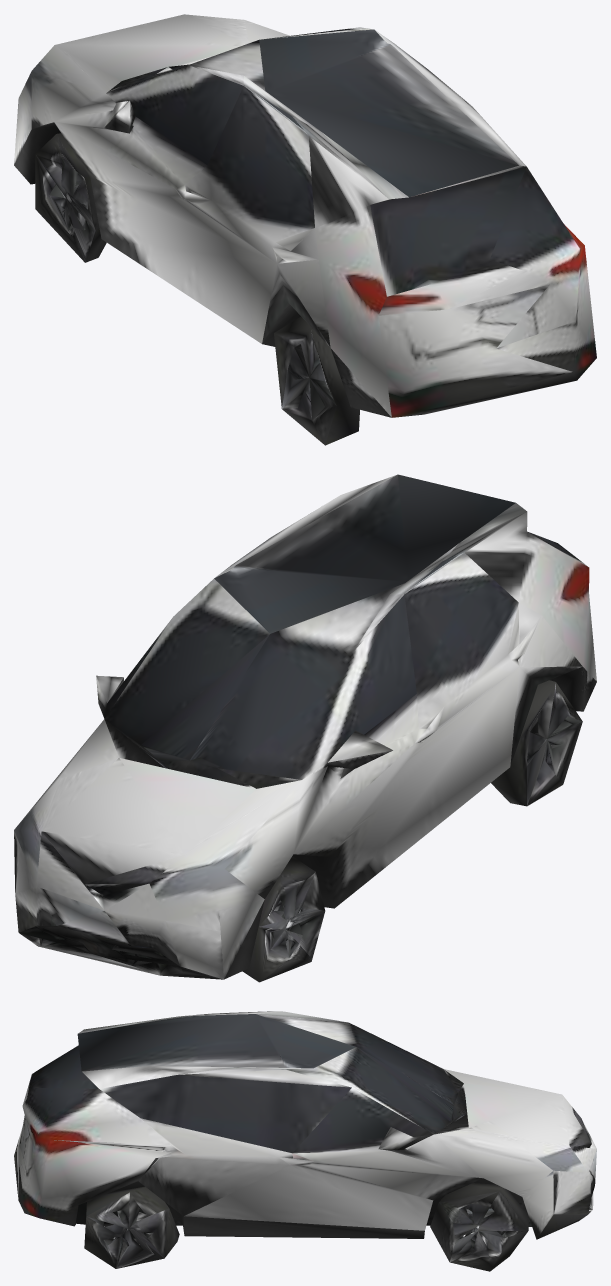
The model's file is sp_car_suv_far.glb.
3 renders of one model, top to bottom at view 1: azimuth 30°, elevation 25°; view 2: azimuth 150°, elevation 25°; view 3: azimuth 270°, elevation 25°, orthographic. The views are drawn at different scales.
Visible parts, largest first — view 1: tripo_node_e44b365f-806b-4689-aff0-f3fc1ce7bef6; view 2: tripo_node_e44b365f-806b-4689-aff0-f3fc1ce7bef6; view 3: tripo_node_e44b365f-806b-4689-aff0-f3fc1ce7bef6.
Boxes of the visible parts, bbox=[...] form: tripo_node_e44b365f-806b-4689-aff0-f3fc1ce7bef6: bbox=[14, 14, 596, 445]; tripo_node_e44b365f-806b-4689-aff0-f3fc1ce7bef6: bbox=[14, 474, 596, 982]; tripo_node_e44b365f-806b-4689-aff0-f3fc1ce7bef6: bbox=[14, 1011, 596, 1271].
Size of the model in its own units: 1.9 by 1.7 by 4.58.
1 material, 1 textured.
